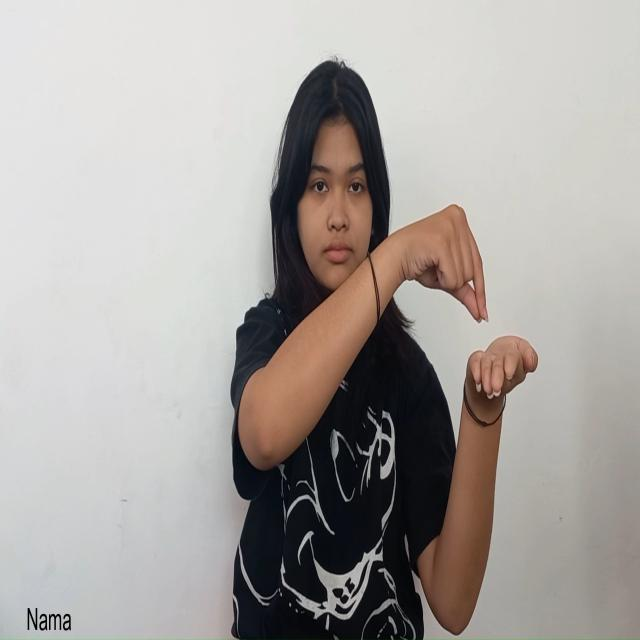Nama -BISINDO-: (390, 203, 538, 433)
